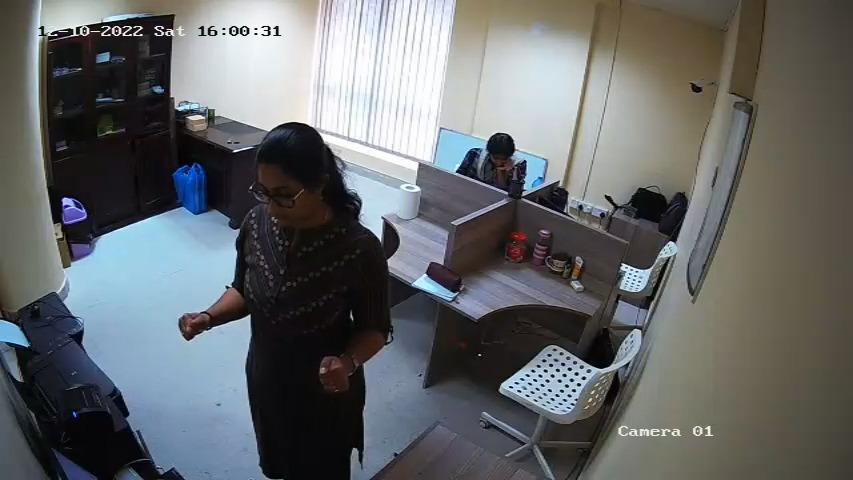no_gloves: (316, 353, 354, 399), (176, 309, 210, 342)
